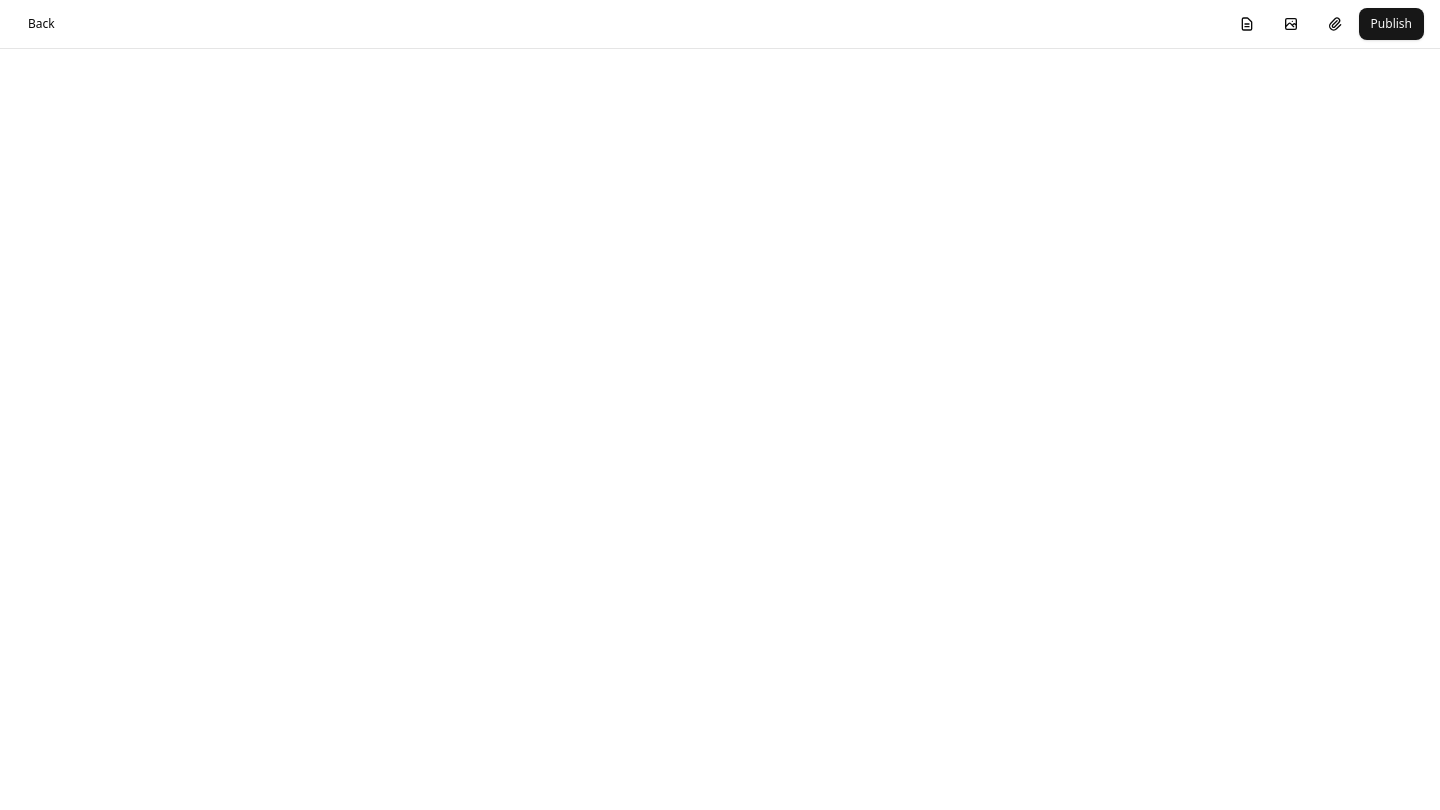
ComposePage › drafts panel › shows empty state when no drafts
What coordinates should you click on to do the following:
click the button with test id "drafts-btn"
I would click on:
 (1247, 24)
Its box is [1227, 8, 1267, 40].
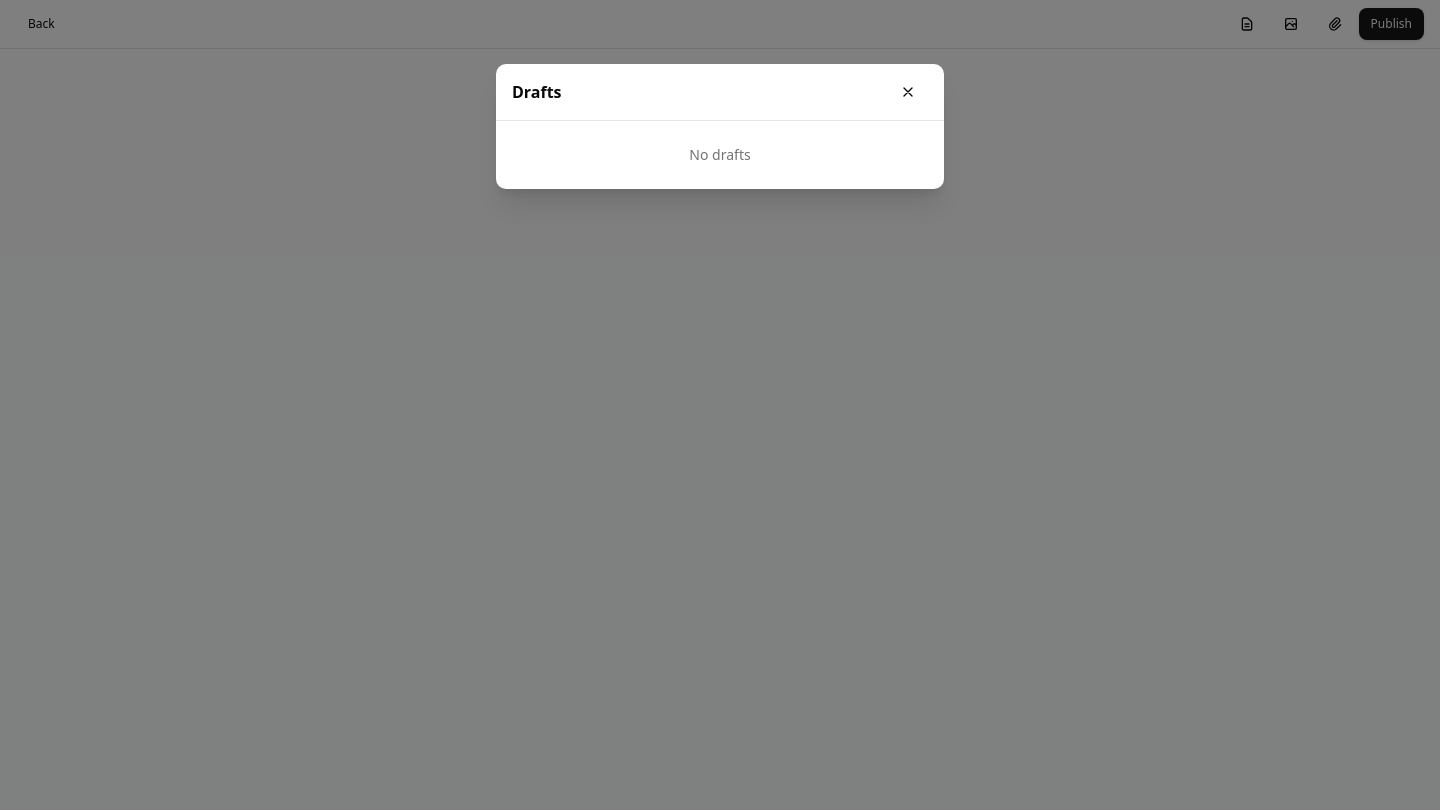
Expected: the text "No drafts" is shown, [689, 145, 751, 164]
